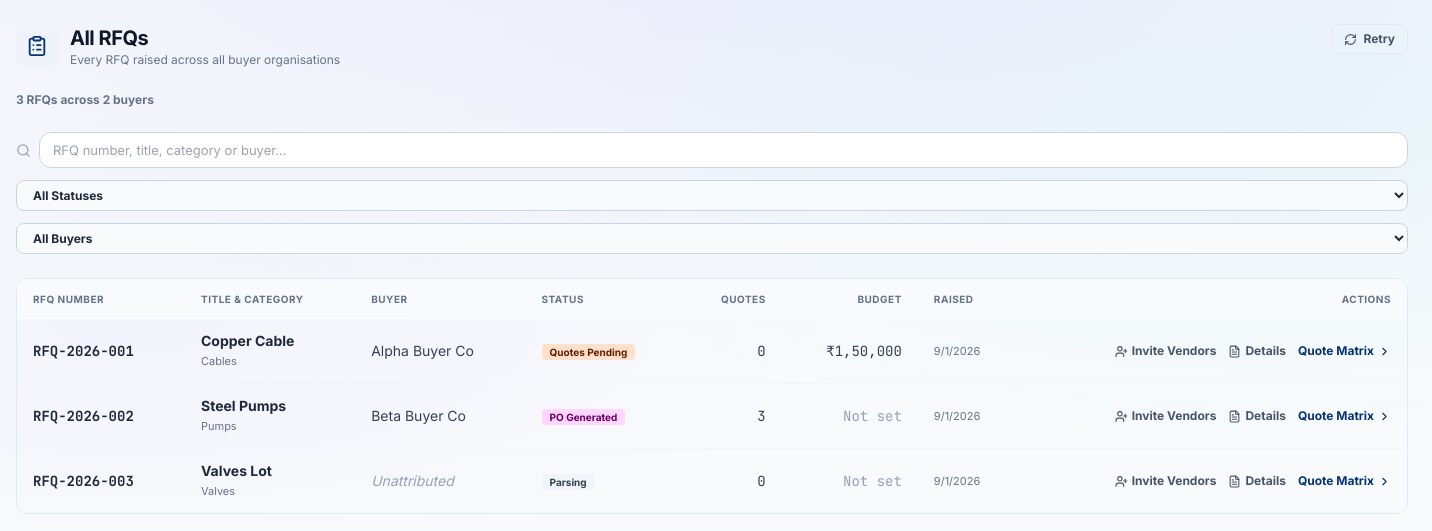
Test case: AllRFQsConsole › filters by status
Expected: the text "Copper Cable" is shown, top-left (201, 332), bottom-right (294, 349)
Select "PO Generated" in the dropdown named "Status". click: [712, 196]
box: top-left (16, 180), bottom-right (1408, 211)
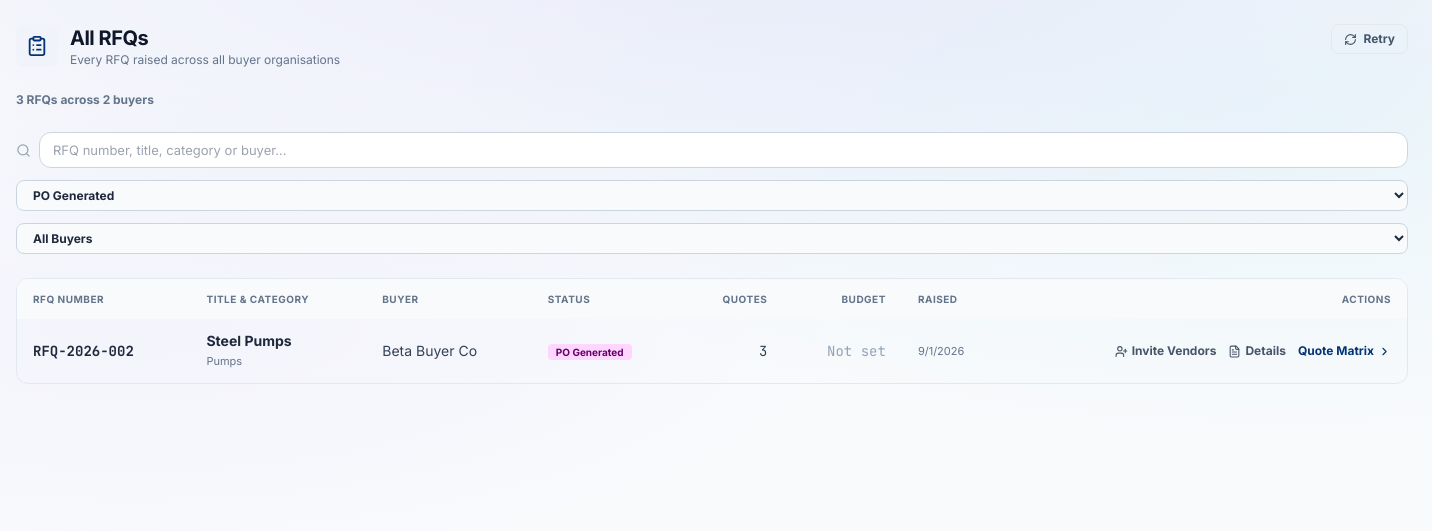
Expected: the text "Steel Pumps" is shown, top-left (206, 332), bottom-right (292, 349)
Expected: the text "Copper Cable" is gone
